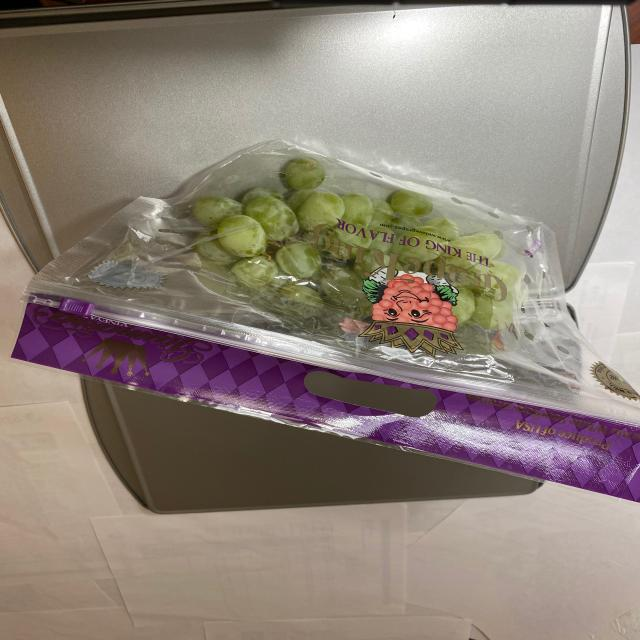grapes: (155, 167, 540, 323)
